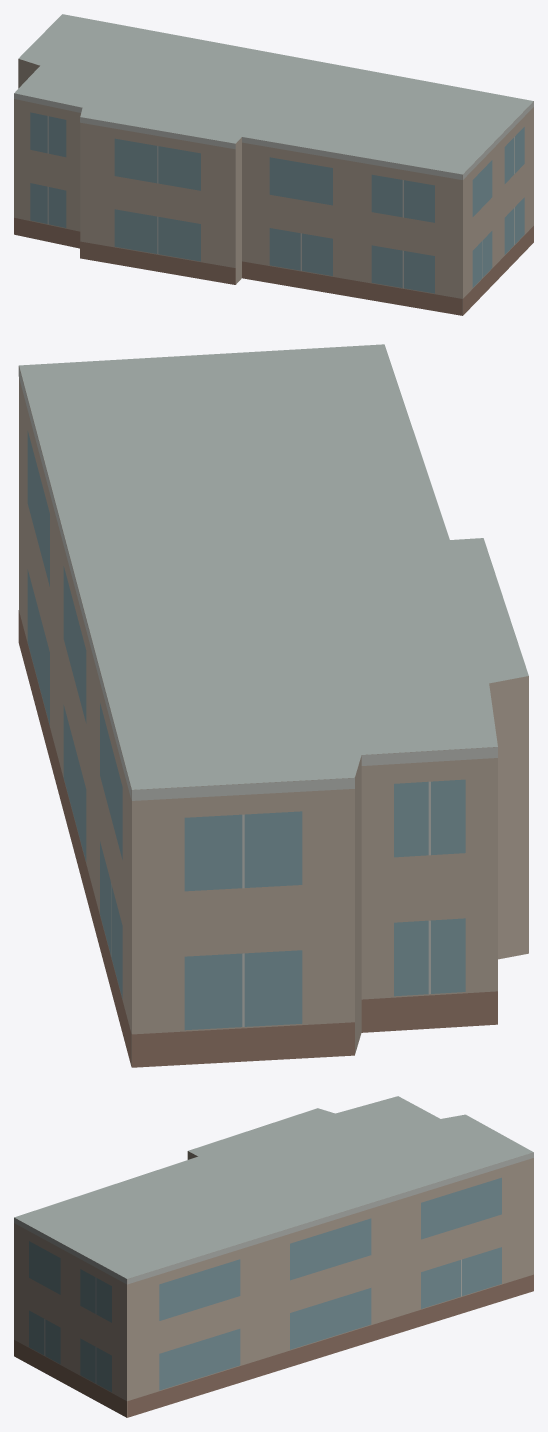
The model's file is survey-upis-32577780.glb.
3 renders of one model, top to bottom at view 1: azimuth 30°, elevation 25°; view 2: azimuth 150°, elevation 25°; view 3: azimuth 270°, elevation 25°, orthographic. The views are drawn at different scales.
Parts seen in each view (by area): view 1: survey-upis-32577780.tmp; view 2: survey-upis-32577780.tmp; view 3: survey-upis-32577780.tmp.
Part boxes in pixels (x1,y1,x2,y2): survey-upis-32577780.tmp: (14,14,533,315); survey-upis-32577780.tmp: (18,344,528,1067); survey-upis-32577780.tmp: (14,1096,533,1417).
Bounding box in the file's own units: 17.25 × 6.1 × 20.7.
